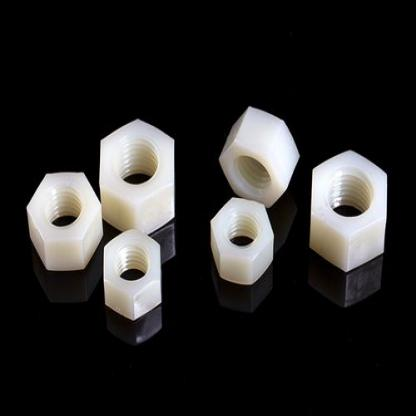FOD: (306, 148, 390, 276), (97, 117, 178, 234), (220, 104, 300, 212), (27, 170, 102, 276), (100, 226, 163, 322), (208, 199, 275, 287)
